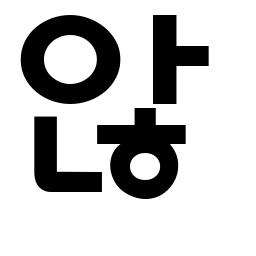Gaji: (141, 36, 193, 80)
